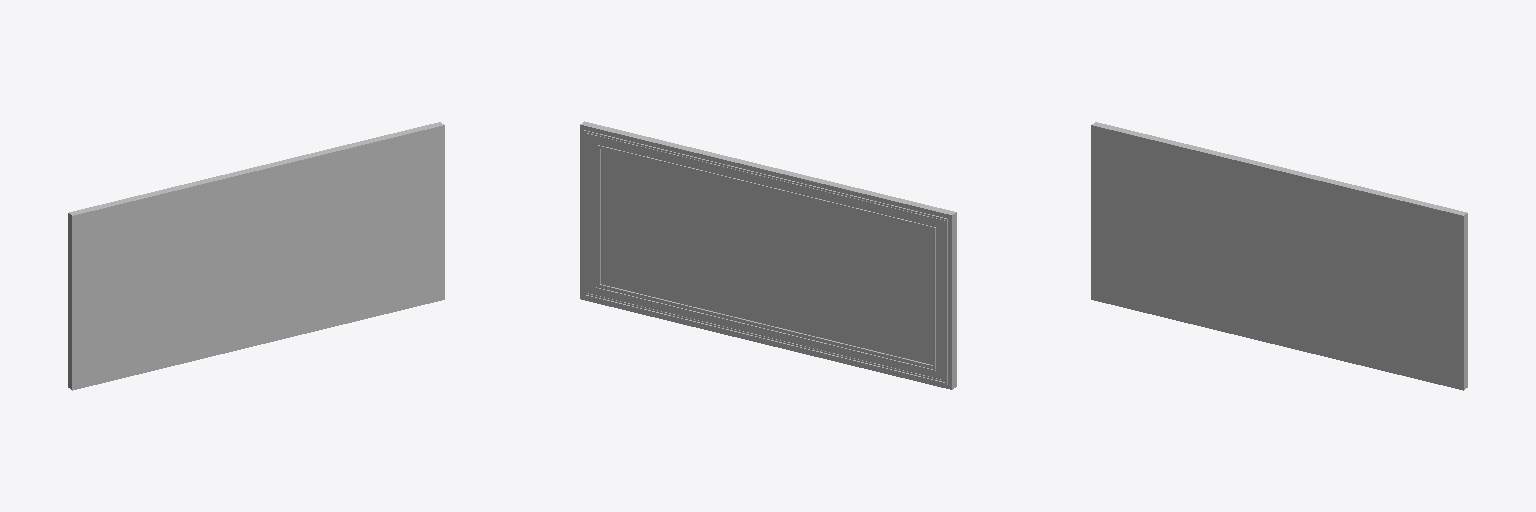
Rendered from painting.obj.
3 renders of one model, left to right at view 1: azimuth 30°, elevation 25°; view 2: azimuth 150°, elevation 25°; view 3: azimuth 330°, elevation 25°, orthographic.
Visible parts, largest first — view 1: Painting; view 2: Painting; view 3: Painting.
Boxes of the visible parts, x1=… form: Painting: x1=68, y1=122, x2=444, y2=390; Painting: x1=580, y1=121, x2=956, y2=389; Painting: x1=1091, y1=122, x2=1467, y2=390.
Bounding box in the file's own units: 51.37 × 23.05 × 1.21.